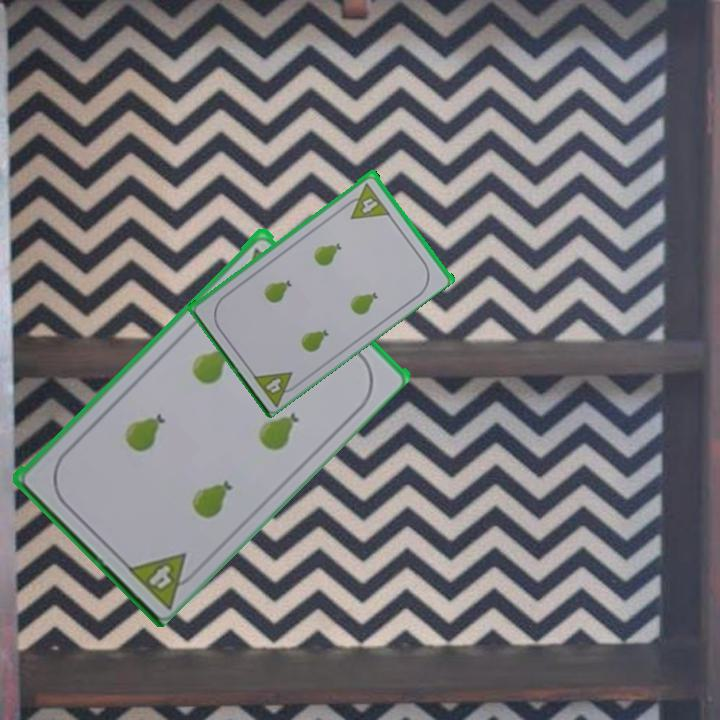4p: (349, 191, 390, 222), (145, 560, 175, 592), (262, 373, 284, 396)
